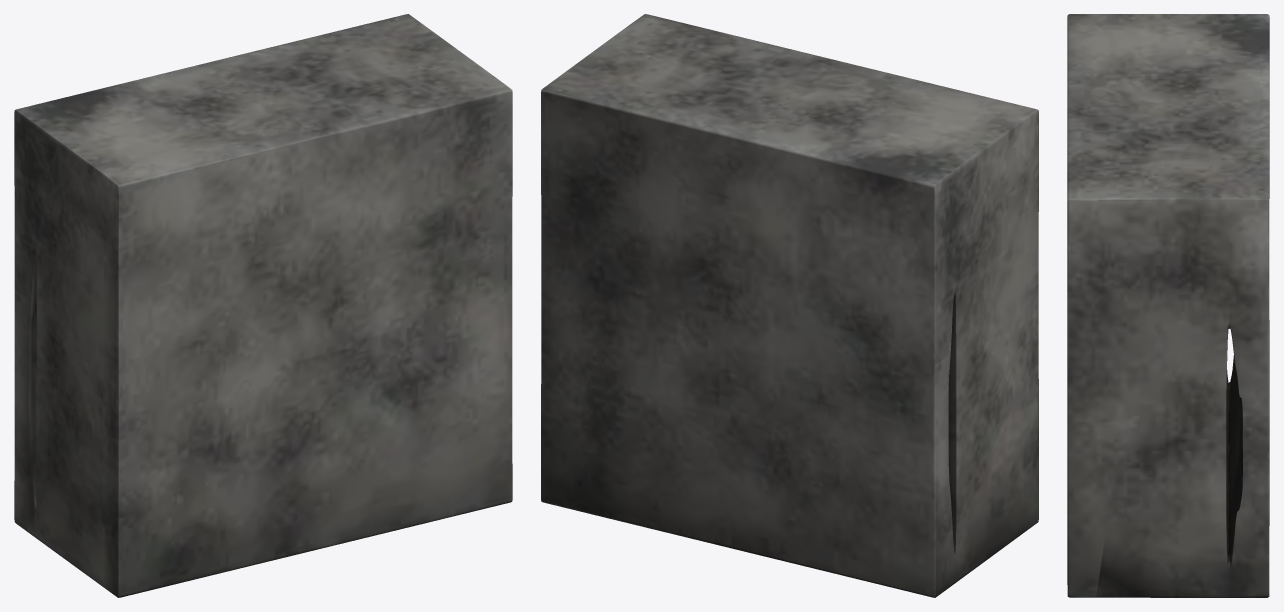
Rendered from weathered-granite-battlement-wall-v001.glb.
The picture shows the model from 3 angles, left to right: view 1: azimuth 30°, elevation 25°; view 2: azimuth 150°, elevation 25°; view 3: azimuth 270°, elevation 25°; orthographic projection. The views are drawn at different scales.
Parts seen in each view (by area): view 1: weathered-granite-battlement-wall; view 2: weathered-granite-battlement-wall; view 3: weathered-granite-battlement-wall.
Part boxes in pixels (box(x1,y1,x2,y2)): weathered-granite-battlement-wall: box(14, 14, 512, 597); weathered-granite-battlement-wall: box(541, 14, 1038, 597); weathered-granite-battlement-wall: box(1067, 14, 1269, 597).
Size of the model in its own units: 1.64 by 1.64 by 0.7515.
1 material, 1 textured.
